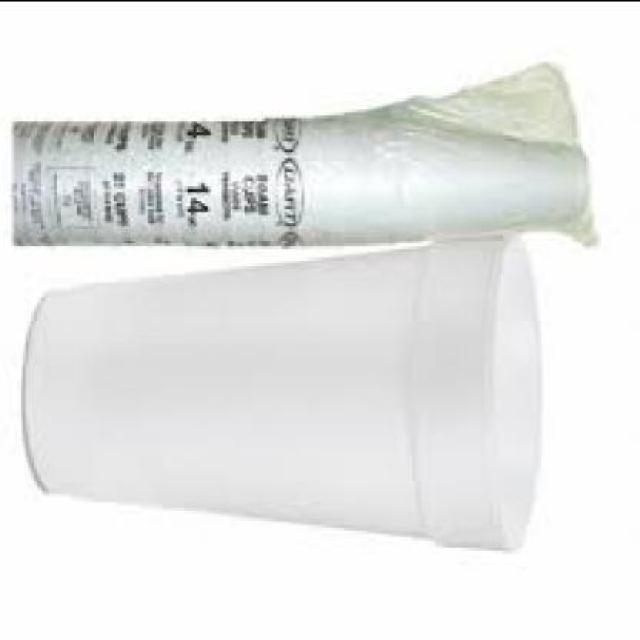PAPER: (26, 236, 546, 550), (17, 106, 592, 240)
